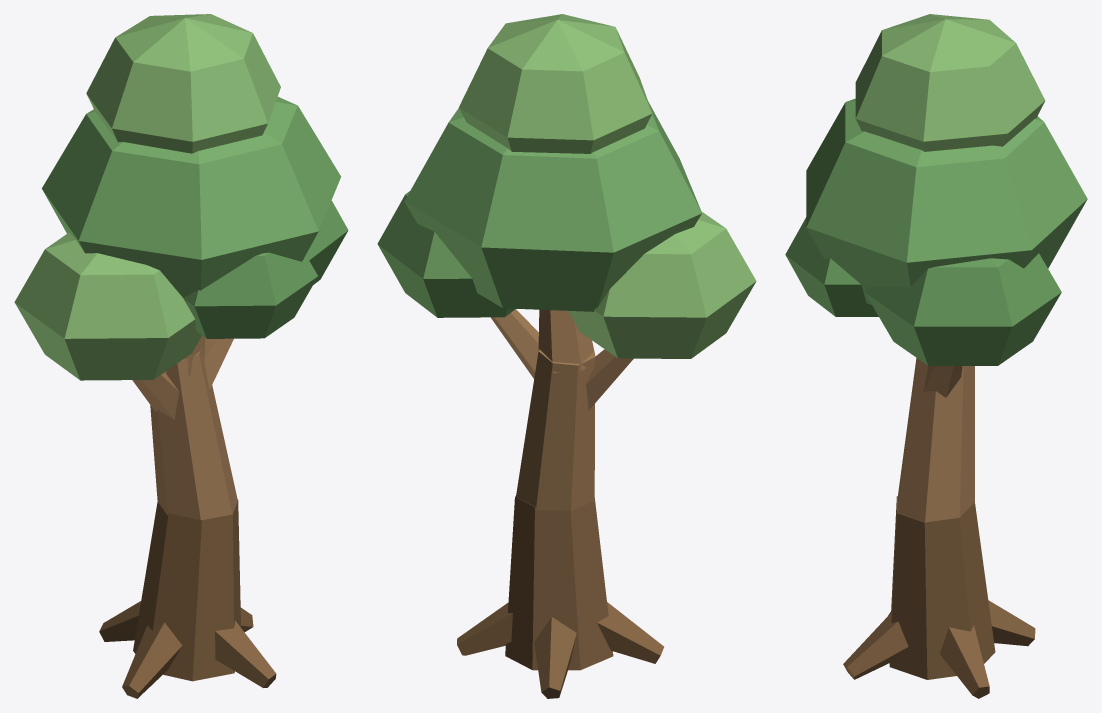
File: prop_tree.glb
3 views of the same model, side by side, from view 1: azimuth 30°, elevation 25°; view 2: azimuth 150°, elevation 25°; view 3: azimuth 270°, elevation 25° (orthographic).
Parts seen in each view (by area): view 1: Tree; view 2: Tree; view 3: Tree.
Part boxes in pixels (x1=…): Tree: x1=14, y1=14, x2=348, y2=698; Tree: x1=377, y1=14, x2=756, y2=698; Tree: x1=785, y1=14, x2=1087, y2=698.
Bounding box in the file's own units: 1.21 × 2.42 × 1.03.
